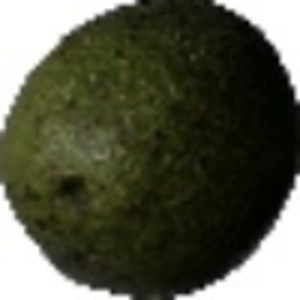abacate: (3, 4, 297, 297)
